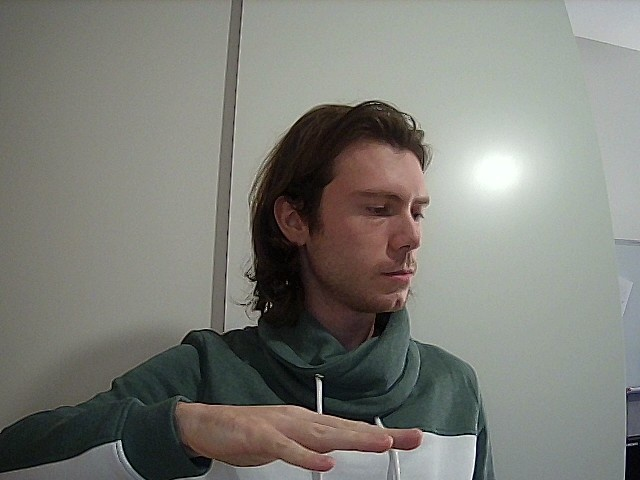space: (8, 378, 445, 480)
